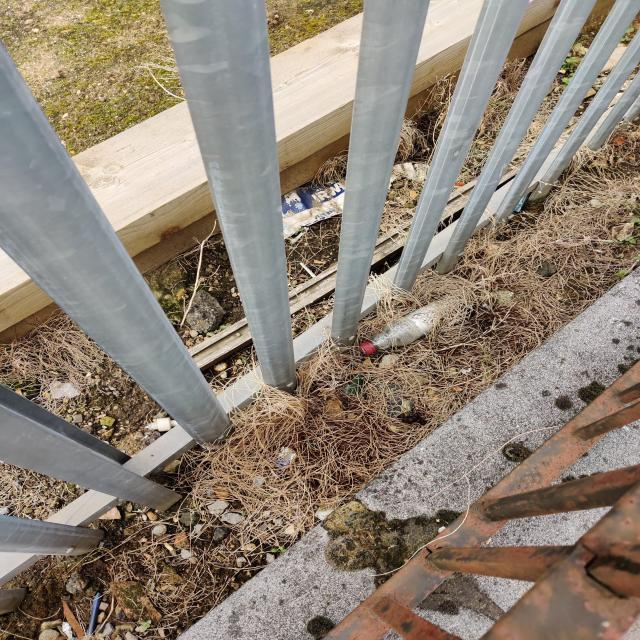litter: (361, 295, 460, 356), (280, 178, 346, 240), (150, 417, 177, 432), (277, 448, 298, 467)
